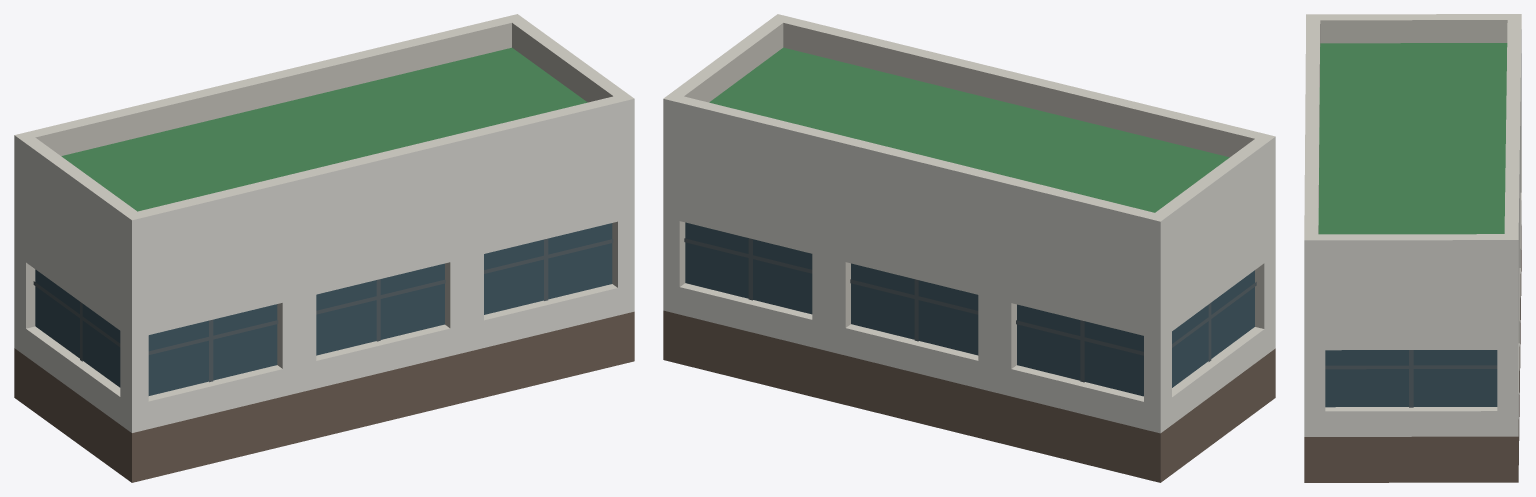
3 renders of one model, left to right at view 1: azimuth 30°, elevation 25°; view 2: azimuth 150°, elevation 25°; view 3: azimuth 270°, elevation 25°, orthographic. The views are drawn at different scales.
Visible parts, largest first — view 1: shed4__wall-plaster, shed4__roof, shed4__base-stone, shed4__trim-concrete, shed4__glass, shed4__frame; view 2: shed4__wall-plaster, shed4__roof, shed4__base-stone, shed4__trim-concrete, shed4__glass, shed4__frame; view 3: shed4__roof, shed4__wall-plaster, shed4__trim-concrete, shed4__base-stone, shed4__glass, shed4__frame.
Boxes of the visible parts, box(x1,y1,x2,y2) form: shed4__wall-plaster: box(14, 98, 634, 432); shed4__roof: box(61, 47, 587, 211); shed4__base-stone: box(14, 311, 634, 482); shed4__trim-concrete: box(14, 14, 633, 401); shed4__glass: box(35, 223, 612, 395); shed4__frame: box(33, 238, 613, 382); shed4__wall-plaster: box(663, 99, 1275, 433); shed4__roof: box(709, 47, 1229, 212); shed4__base-stone: box(663, 310, 1275, 482); shed4__trim-concrete: box(663, 14, 1275, 401); shed4__glass: box(685, 222, 1254, 396); shed4__frame: box(684, 238, 1256, 382); shed4__roof: box(1318, 43, 1507, 234); shed4__wall-plaster: box(1304, 29, 1521, 436); shed4__trim-concrete: box(1304, 14, 1521, 411); shed4__base-stone: box(1304, 226, 1521, 482); shed4__glass: box(1325, 350, 1497, 407); shed4__frame: box(1325, 350, 1497, 407).
Bounding box in the file's own units: 9.51 × 4.75 × 3.86.
